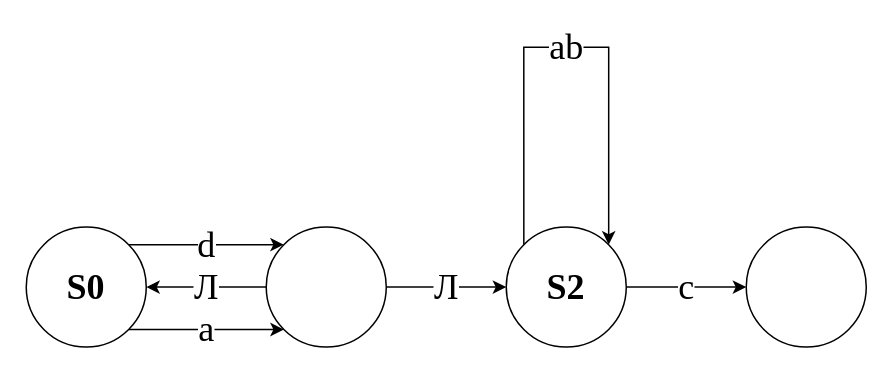
This 893x378 diagram has some shape labels left out. The box of each missing label's shape, as (x1, y1, x2, y2) in pixels:
S1: (265, 226, 386, 347)
Sf: (745, 226, 866, 347)
